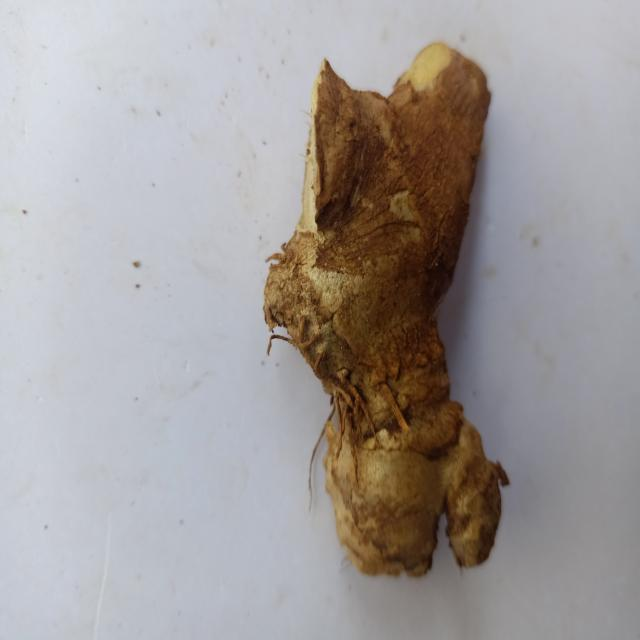Ginger: (264, 42, 510, 577)
